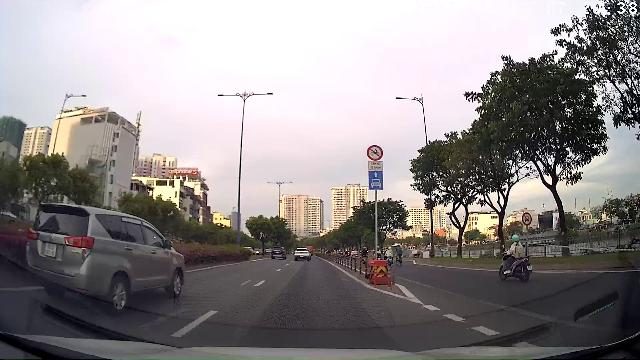103a-cam-oto: (522, 212, 532, 226)
